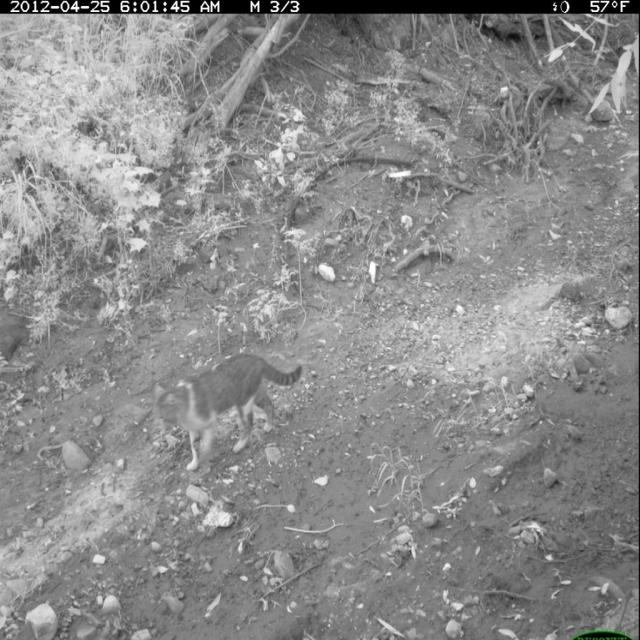cat: (150, 345, 309, 481)
